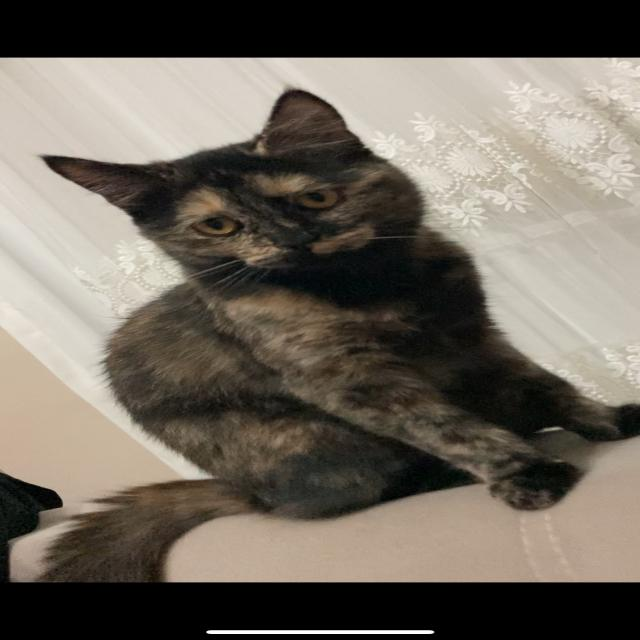authorized: (31, 87, 637, 581)
